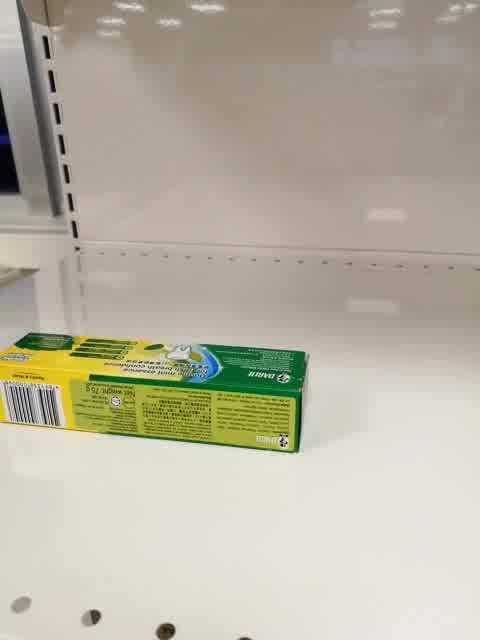toothpaste: (1, 332, 309, 454)
